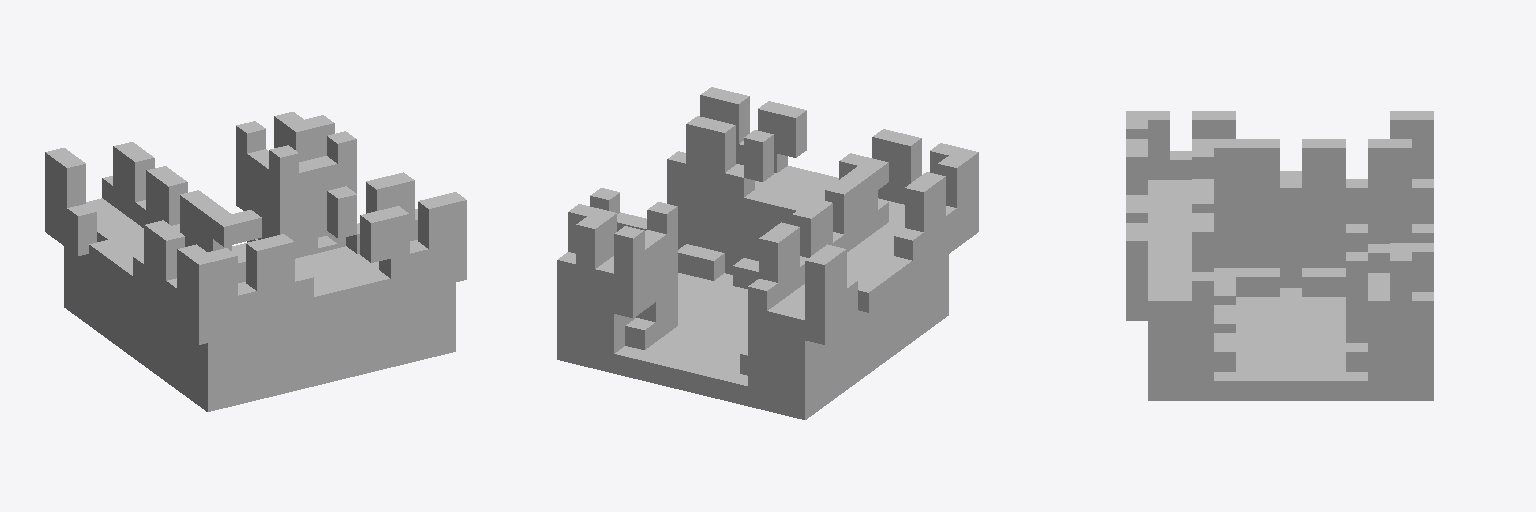
The model's file is bottom_right_corner_2.obj.
The picture shows the model from 3 angles: view 1: azimuth 30°, elevation 25°; view 2: azimuth 150°, elevation 25°; view 3: azimuth 270°, elevation 25°; orthographic projection.
Parts seen in each view (by area): view 1: bottom_right_corner_2; view 2: bottom_right_corner_2; view 3: bottom_right_corner_2.
Part boxes in pixels (bbox=[...]): bottom_right_corner_2: bbox=[45, 112, 466, 411]; bottom_right_corner_2: bbox=[557, 87, 978, 419]; bottom_right_corner_2: bbox=[1126, 111, 1433, 400].
Size of the model in its own units: 14 by 8 by 14.